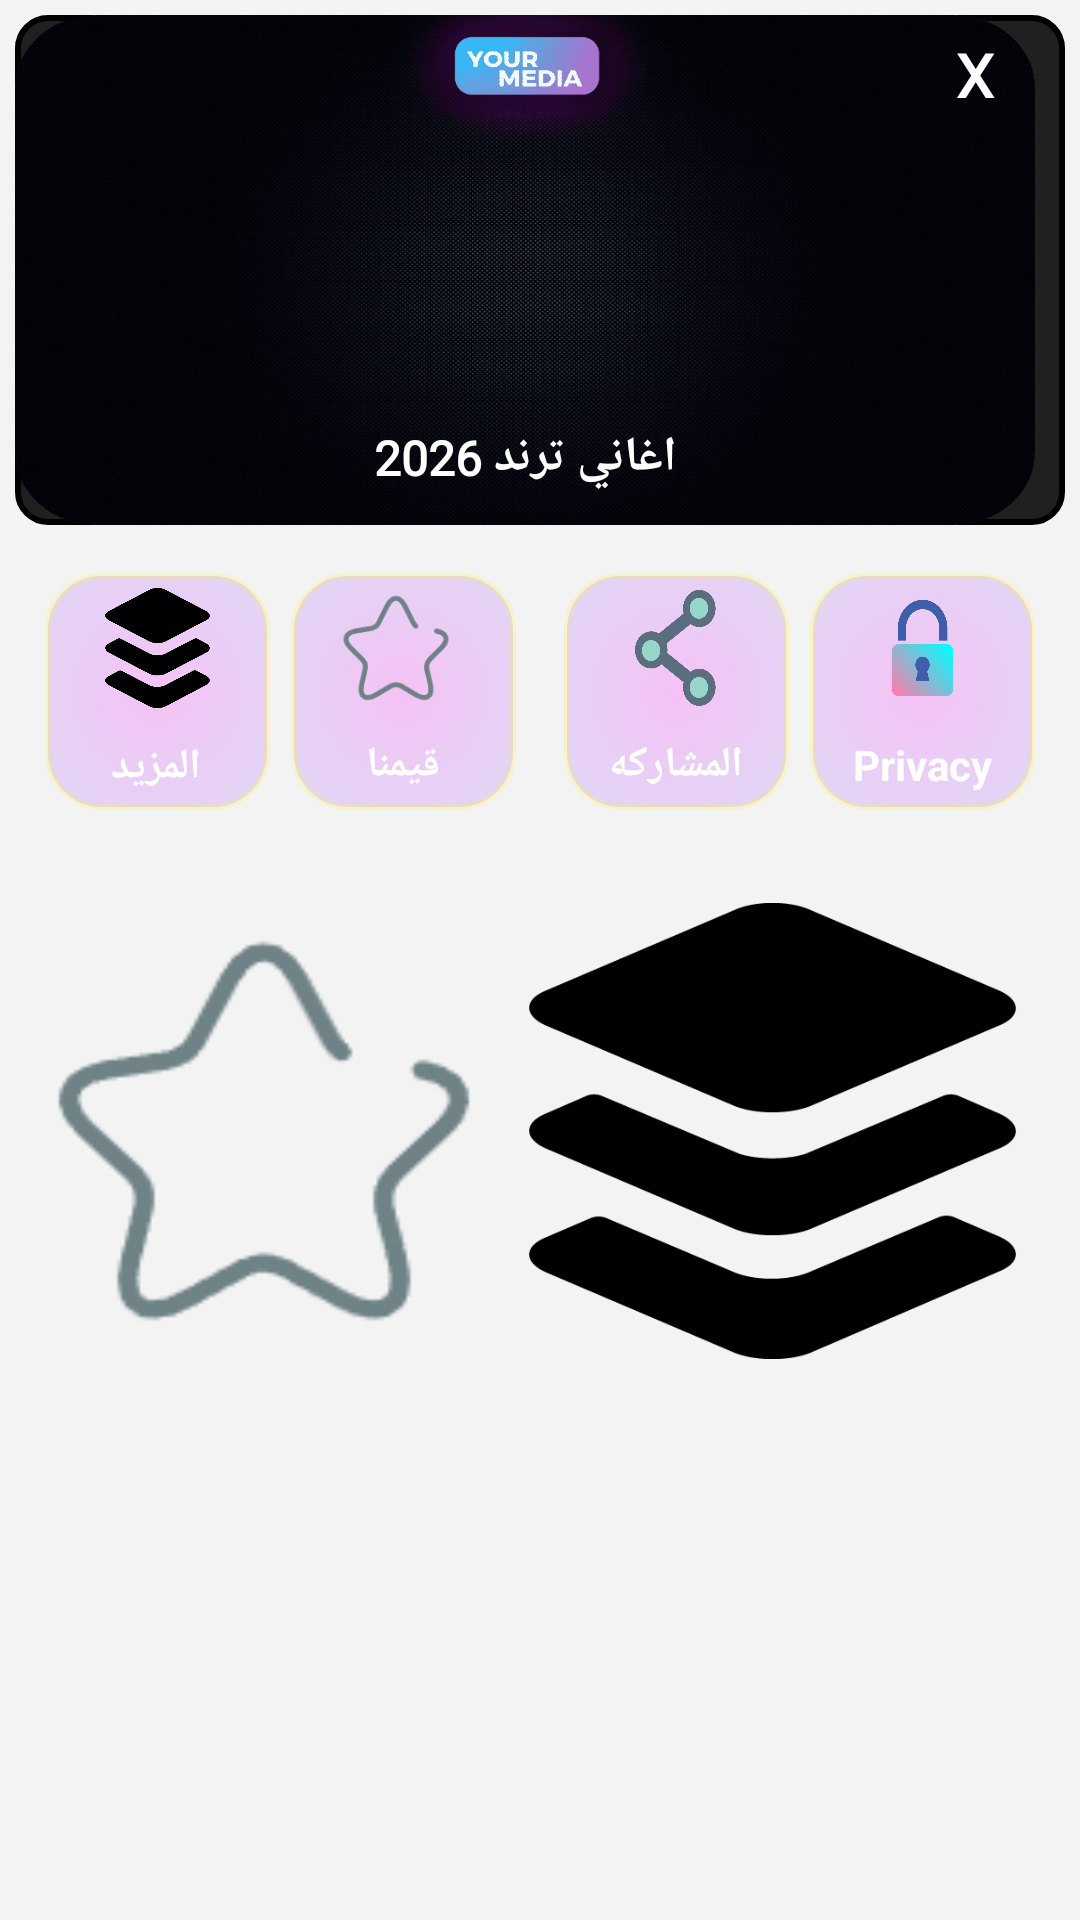

Point at icon controls on the screen. Image size 1080 × 1920, points as (x=x, y=y).
shareicon: (x=675, y=648)
